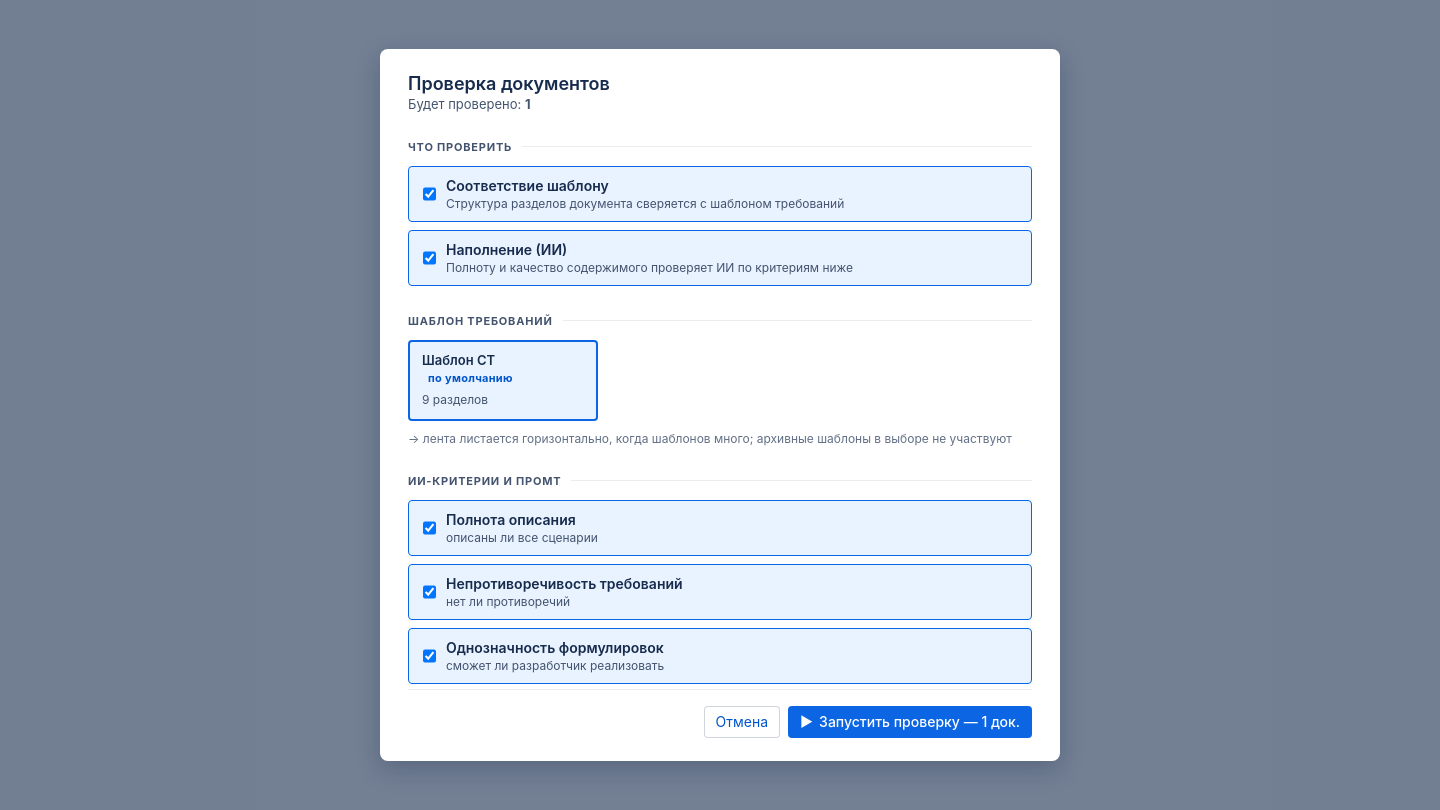
ValidationDialog: выбор критериев проверки › обе галочки сняты — запуск заблокирован, видна подсказка
Click the checkbox labelled "Соответствие шаблону" at (430, 194), box [423,177,436,211]
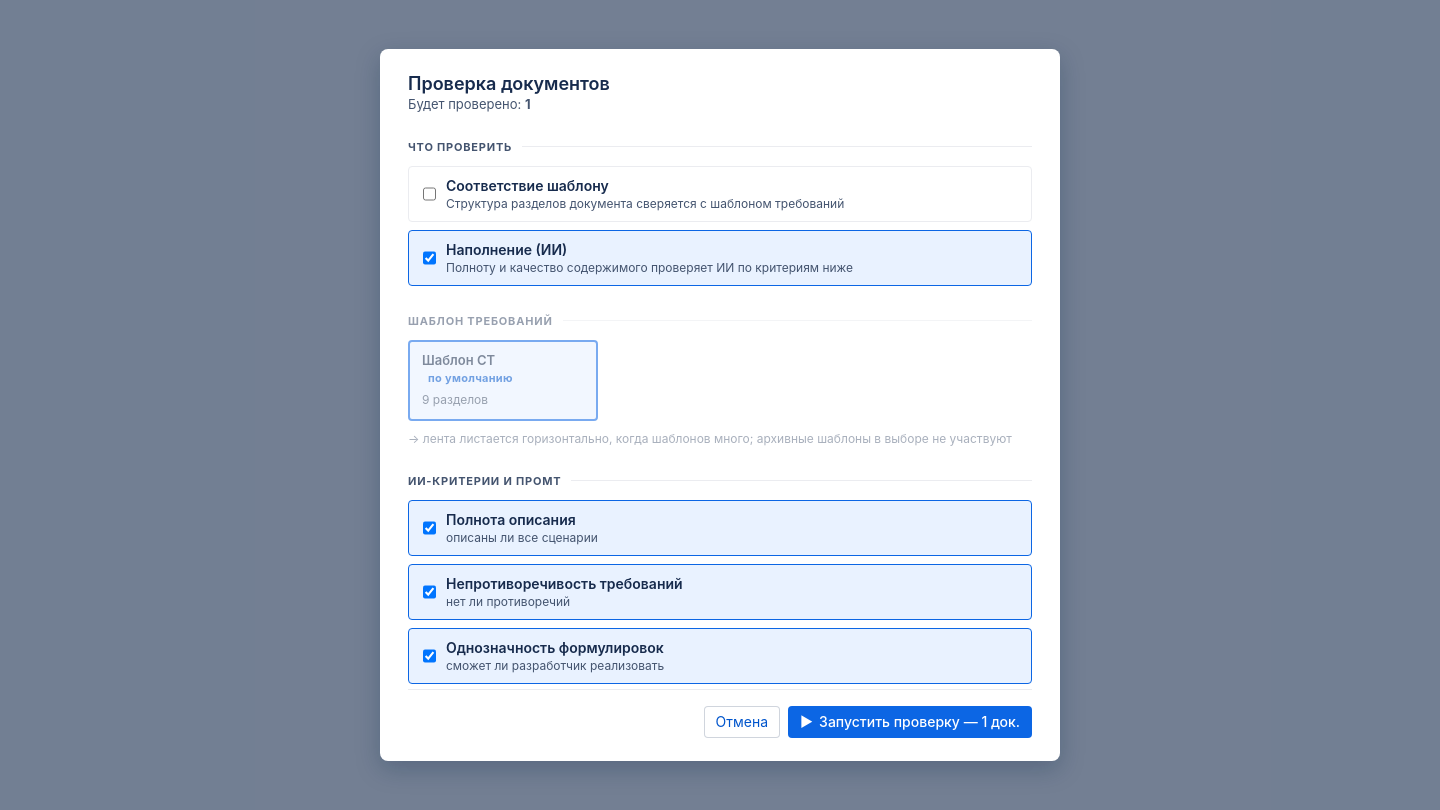
Click the checkbox labelled "Наполнение" at (430, 258), box [423,241,436,275]
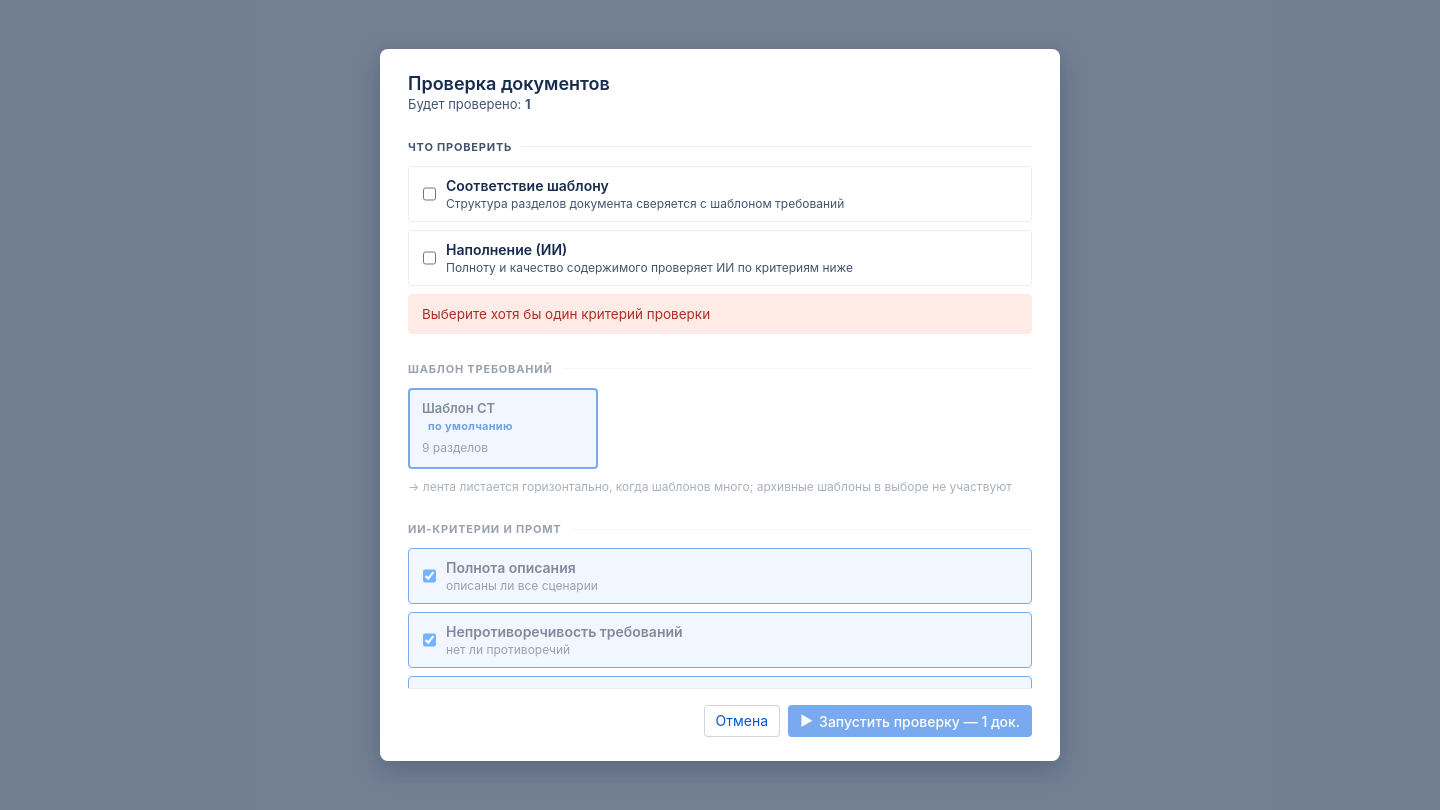
Now the text "Выберите хотя бы один критерий проверки" is shown, box [408,294,1032,334]
Now the button "▶ Запустить проверку — 1 док." is disabled, box [788,705,1032,737]
